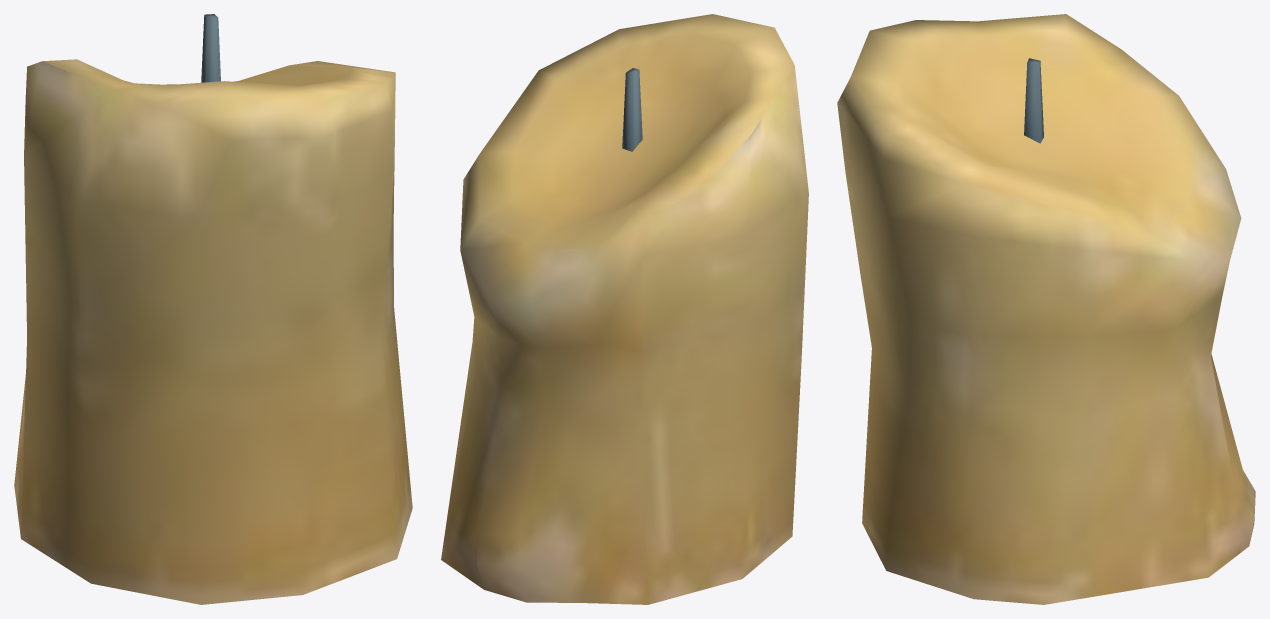
The model's file is prop_candle_1.glb.
3 renders of one model, left to right at view 1: azimuth 30°, elevation 25°; view 2: azimuth 150°, elevation 25°; view 3: azimuth 270°, elevation 25°, orthographic. The views are drawn at different scales.
Parts seen in each view (by area): view 1: Candle_1; view 2: Candle_1; view 3: Candle_1.
Part boxes in pixels (bbox=[...]): Candle_1: bbox=[14, 14, 412, 604]; Candle_1: bbox=[441, 14, 808, 604]; Candle_1: bbox=[837, 14, 1255, 604].
Size of the model in its own units: 0.0939 by 0.132 by 0.1079.
Materials: 1 (1 with a texture image).
